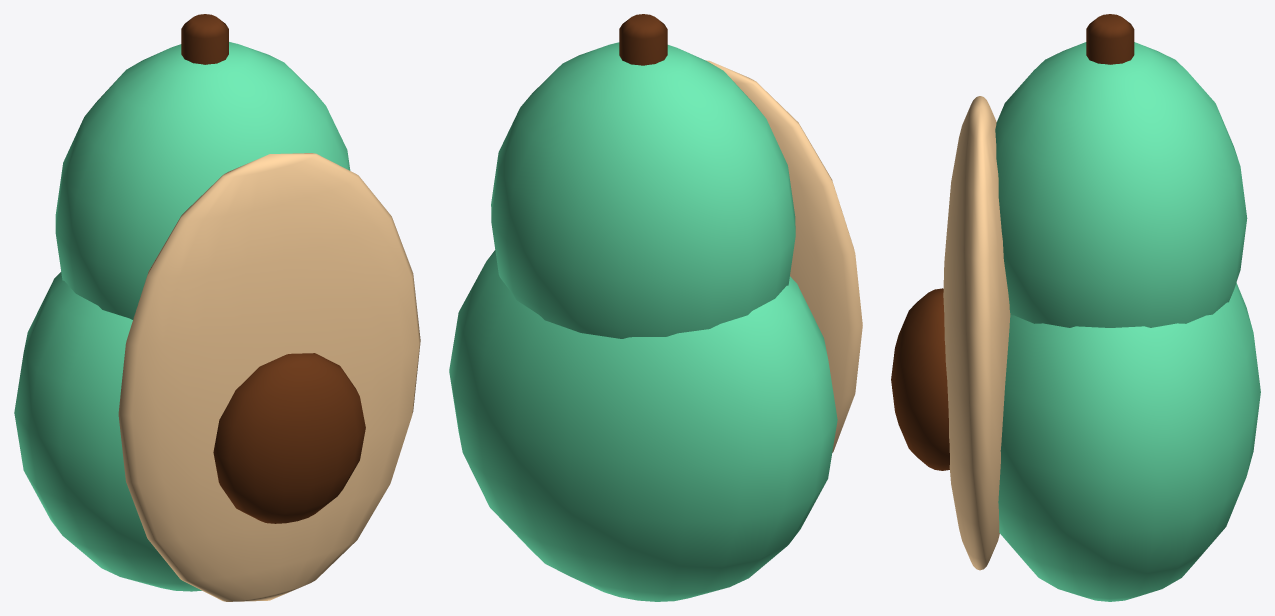
Rendered from avocado.glb.
3 views of the same model, side by side, from view 1: azimuth 30°, elevation 25°; view 2: azimuth 150°, elevation 25°; view 3: azimuth 270°, elevation 25° (orthographic).
Visible parts, largest first — view 1: avocado; view 2: avocado; view 3: avocado.
Part boxes in pixels (<box>): avocado: <box>14,14,420,601</box>; avocado: <box>449,14,862,601</box>; avocado: <box>891,14,1260,601</box>.
Bounding box in the file's own units: 0.6593 × 1 × 0.5934.
Materials: 1 (1 with a texture image).
